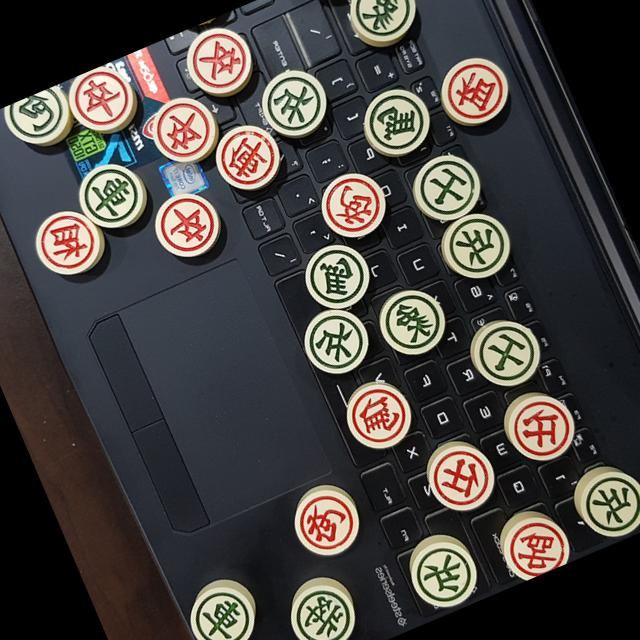black-advisor: (406, 148, 488, 226), (466, 314, 546, 392)
black-cannon: (2, 84, 74, 146)
black-chariot: (71, 155, 151, 235), (182, 580, 260, 640)
black-elephant: (370, 282, 451, 364), (340, 0, 425, 49)
black-general: (279, 577, 363, 640)
black-horse: (356, 82, 436, 162), (300, 240, 374, 313)
black-soldier: (435, 205, 517, 285), (254, 62, 334, 144), (294, 301, 376, 379), (404, 536, 482, 614), (571, 464, 640, 544)
red-advisor: (498, 387, 582, 469), (422, 440, 498, 514)
red-cannon: (312, 167, 392, 245), (286, 484, 365, 562)
red-chariot: (206, 117, 286, 196)
red-elephant: (432, 50, 516, 132), (29, 206, 102, 281)
red-general: (496, 511, 574, 584)
red-horse: (336, 378, 418, 455)
red-soldier: (180, 19, 256, 99), (146, 186, 224, 262), (61, 63, 140, 137), (144, 93, 219, 169)
